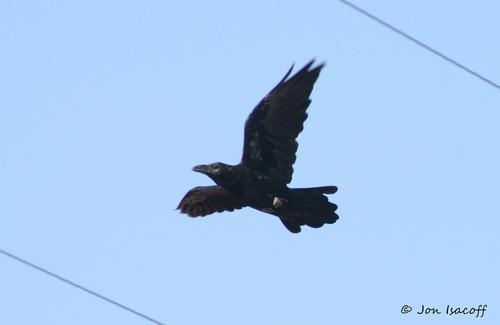bird: (166, 56, 346, 232)
